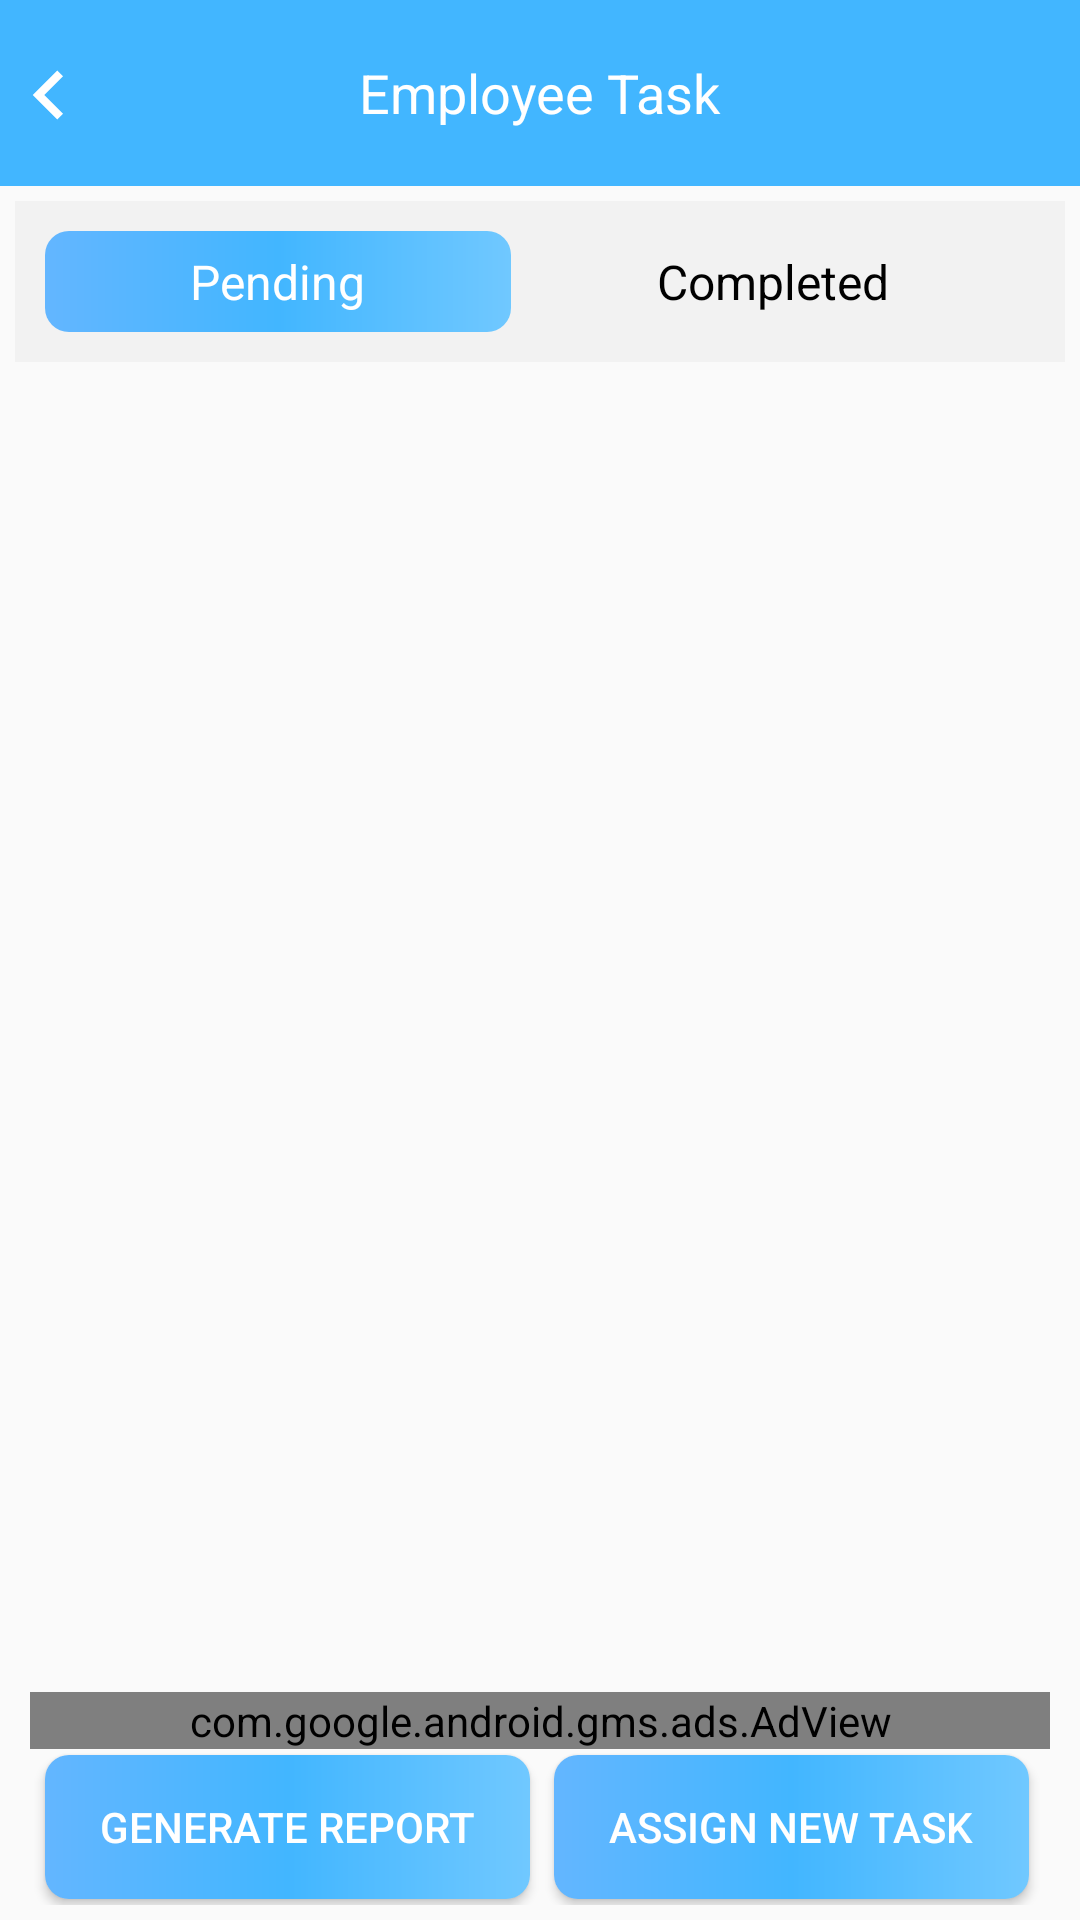

Screen size 1080 x 1920. Icon name, then its box in pixels as (x1, y1, x2, y2):
keyboard arrow left: (33, 70, 63, 120)
